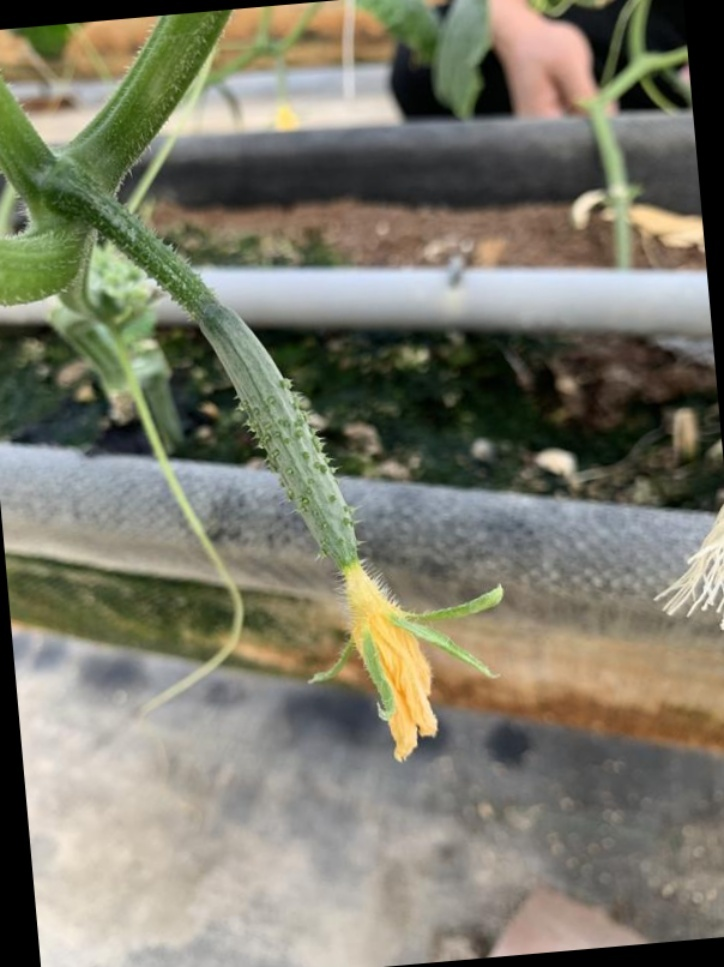bear: (157, 250, 509, 767)
